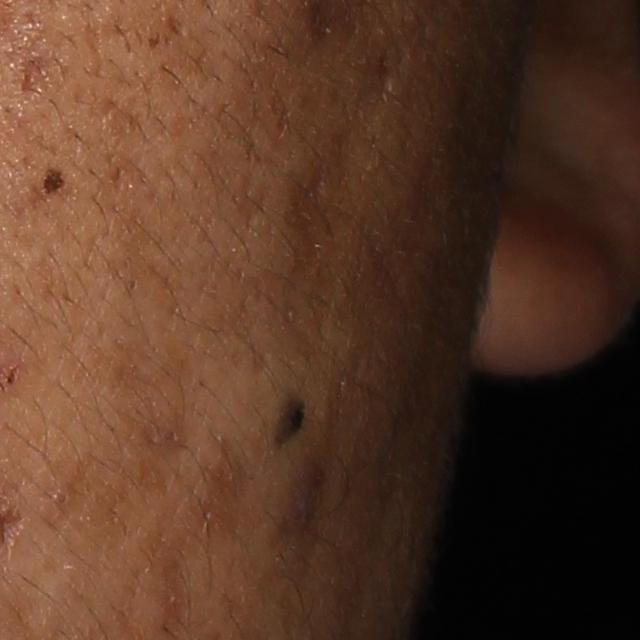nevus: (271, 384, 311, 446), (40, 167, 70, 196)
